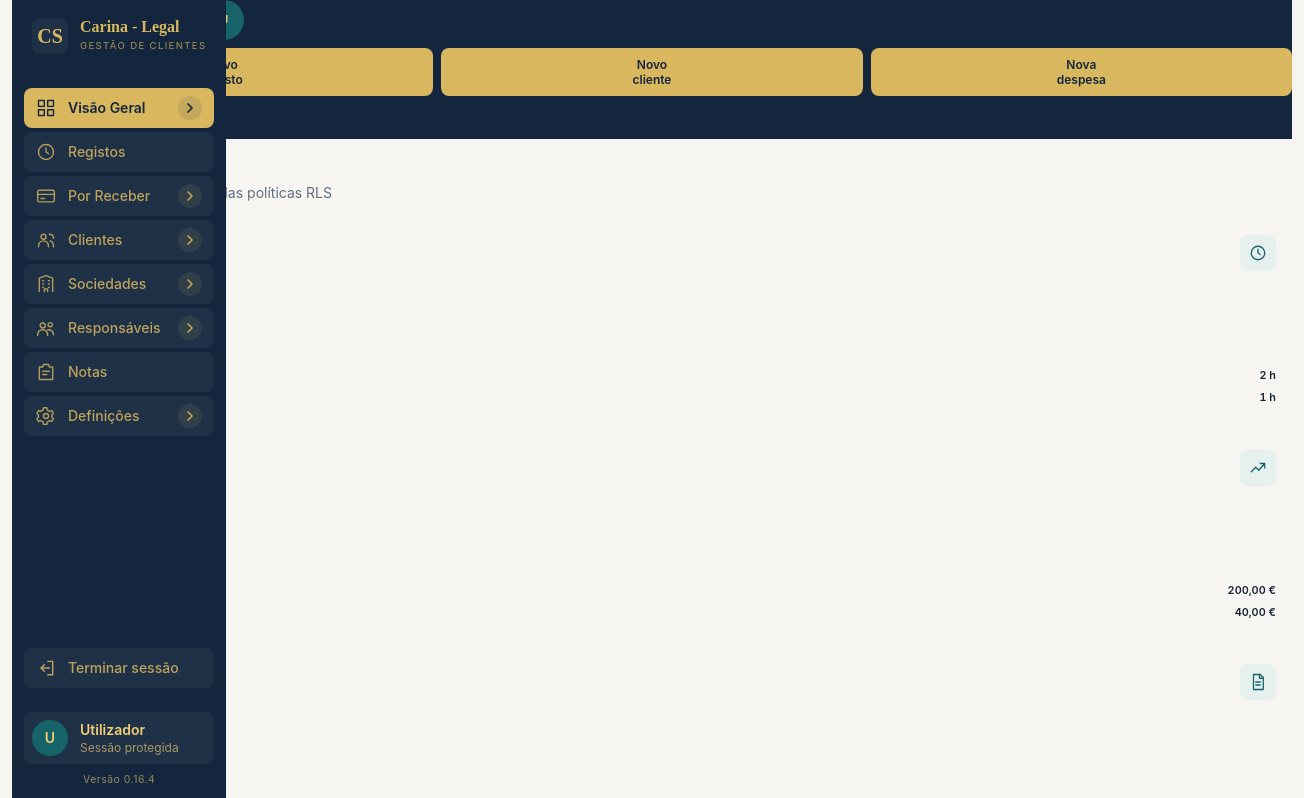
interface principal › bloqueia URLs administrativas ao Operador e mantém os Registos operacionais disponíveis
Expected: the button "Definições" is shown, x1=24 y1=396 x2=214 y2=436
Click the button "Registos". click: (119, 152)
box: x1=24 y1=132 x2=214 y2=172
(page scrolled)
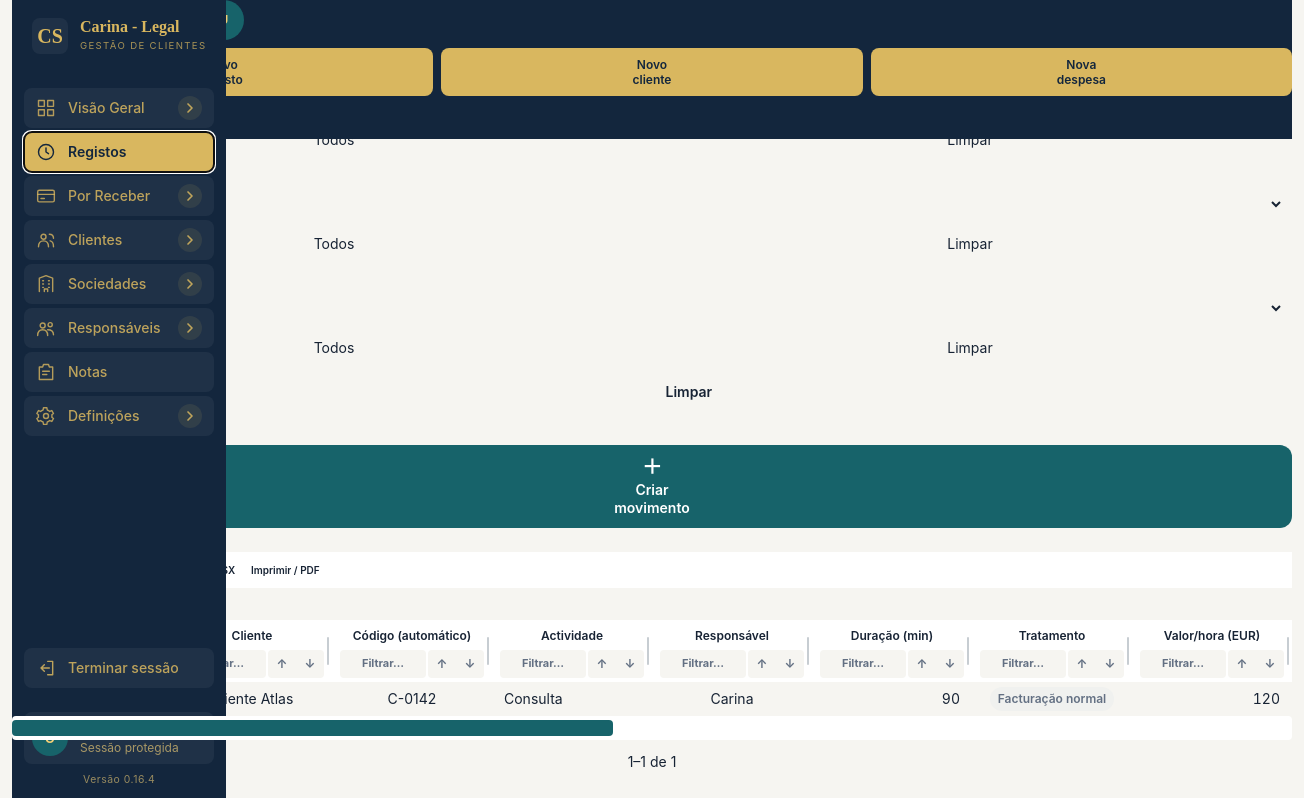
Result: the button with aria-label "Criar movimento" is shown at x1=12 y1=445 x2=1292 y2=528
